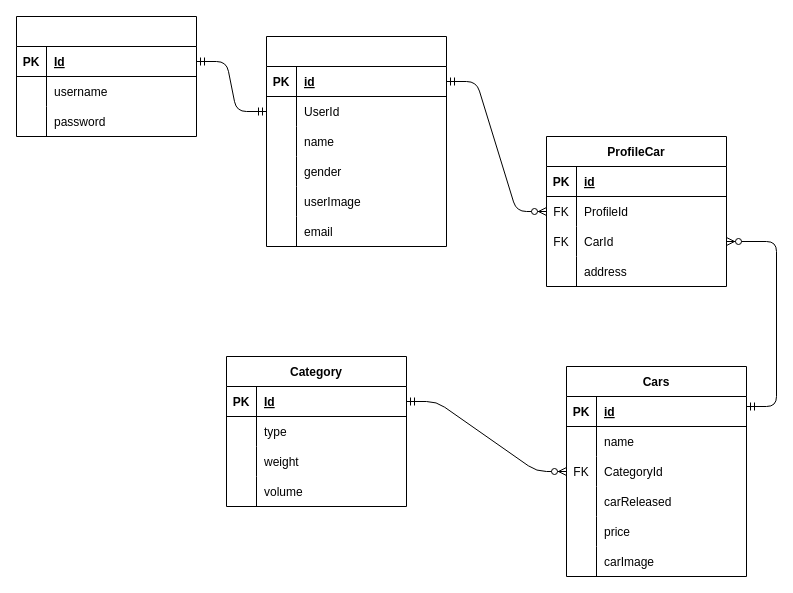
Some shapes in this 793 by 593 pixel diagram are drawn without their labels. Here are the shapes that lost their labels. From the top down, the box of each, then its label:
(16, 16, 196, 136): Users
(266, 36, 446, 246): Profiles
